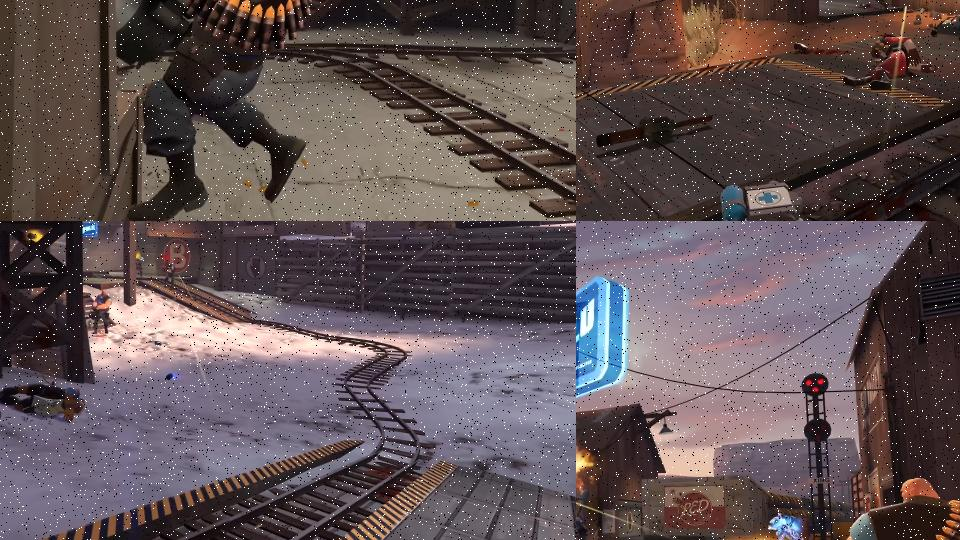Enemy: (0, 0, 341, 221), (711, 175, 856, 221), (842, 32, 938, 93), (0, 380, 86, 423), (86, 289, 113, 335), (576, 485, 589, 524), (162, 260, 176, 290), (576, 515, 590, 540), (860, 0, 889, 10), (135, 252, 144, 278)
